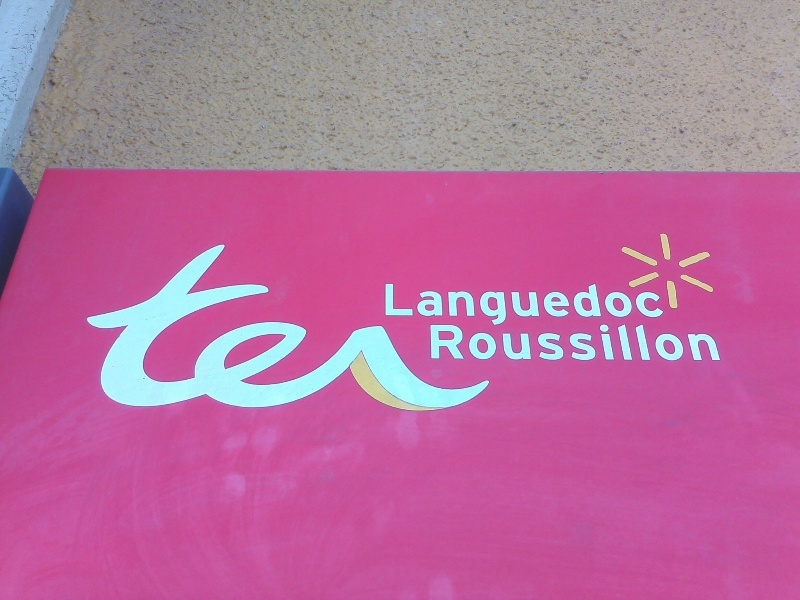text: (113, 233, 128, 417), (129, 233, 144, 417), (145, 233, 160, 417), (161, 233, 176, 417), (177, 233, 192, 417), (193, 233, 208, 417), (209, 233, 224, 417), (225, 233, 240, 417), (241, 233, 256, 417), (257, 233, 272, 417), (273, 233, 288, 417), (289, 233, 304, 417), (305, 233, 320, 417), (321, 233, 336, 417), (337, 233, 352, 417), (353, 233, 368, 417), (369, 233, 384, 417), (385, 233, 400, 417), (401, 233, 416, 417), (417, 233, 432, 417), (433, 233, 448, 417), (449, 233, 464, 417), (465, 233, 480, 417), (481, 233, 496, 417), (497, 233, 512, 417), (513, 233, 520, 417), (108, 233, 112, 417), (385, 282, 400, 327), (401, 282, 416, 327), (417, 282, 432, 327), (433, 282, 448, 327), (449, 282, 464, 327), (465, 282, 480, 327), (481, 282, 496, 327), (497, 282, 512, 327), (513, 282, 528, 327), (529, 282, 544, 327), (545, 282, 560, 327), (561, 282, 576, 327), (577, 282, 592, 327), (593, 282, 608, 327), (609, 282, 624, 327), (625, 282, 640, 327), (641, 282, 656, 327), (433, 323, 448, 363), (449, 323, 464, 363), (465, 323, 480, 363), (481, 323, 496, 363), (497, 323, 512, 363), (513, 323, 528, 363), (529, 323, 544, 363), (545, 323, 560, 363), (561, 323, 576, 363), (577, 323, 592, 363), (593, 323, 608, 363), (609, 323, 624, 363), (625, 323, 640, 363), (641, 323, 656, 363), (657, 323, 672, 363), (673, 323, 688, 363), (689, 323, 704, 363), (705, 323, 720, 363), (657, 282, 667, 327), (427, 323, 432, 363), (721, 323, 724, 363), (383, 282, 384, 327)
